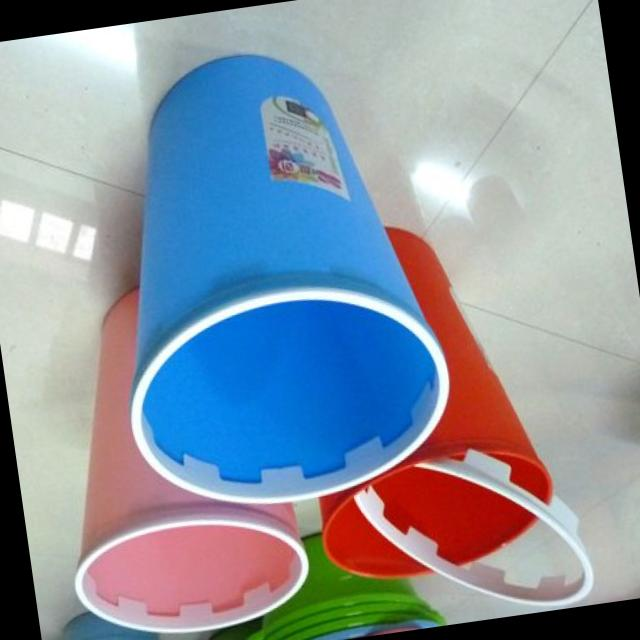dustbin: (78, 25, 468, 525), (273, 200, 601, 640), (32, 264, 319, 640)
